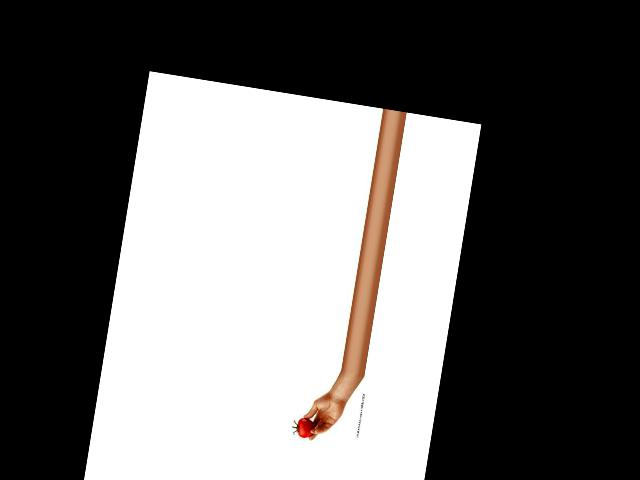tomato: (296, 416, 316, 439)
